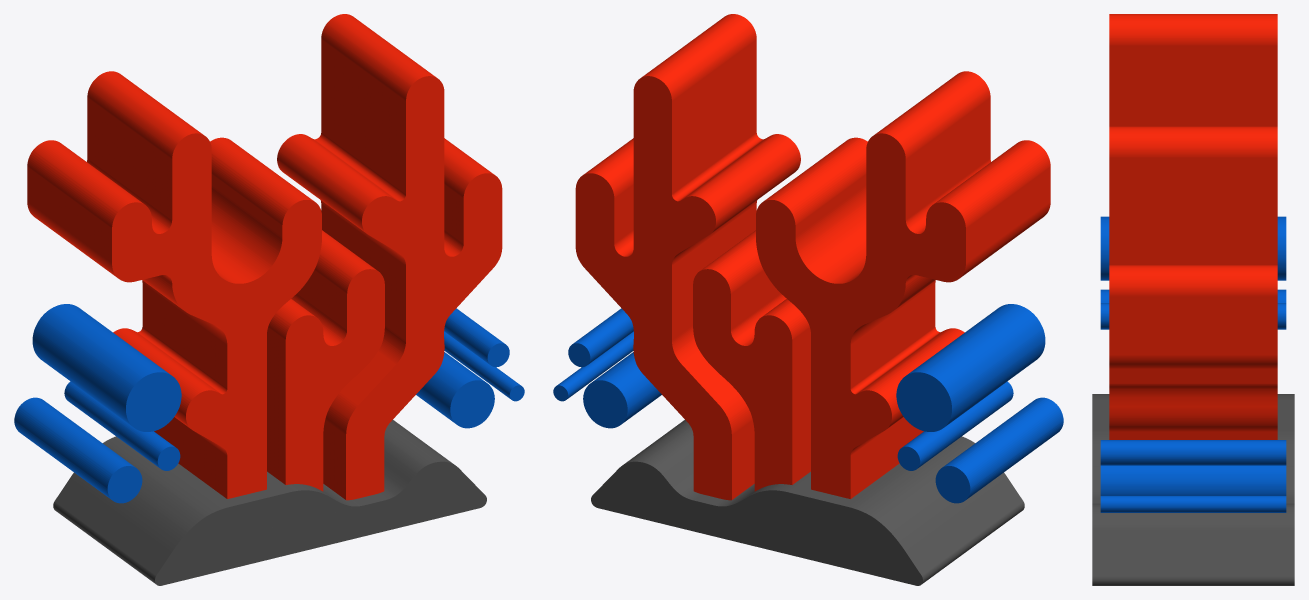
Rendered from U+1FAB8.obj.
The picture shows the model from 3 angles, left to right: view 1: azimuth 30°, elevation 25°; view 2: azimuth 150°, elevation 25°; view 3: azimuth 270°, elevation 25°; orthographic projection.
Visible parts, largest first — view 1: U+1FAB8_layer00_obj00, U+1FAB8_layer02_obj00, U+1FAB8_layer01_obj00; view 2: U+1FAB8_layer00_obj00, U+1FAB8_layer02_obj00, U+1FAB8_layer01_obj00; view 3: U+1FAB8_layer00_obj00, U+1FAB8_layer02_obj00, U+1FAB8_layer01_obj00.
Boxes of the visible parts, x1,y1,x2,y2 form: U+1FAB8_layer00_obj00: (27,14,502,500); U+1FAB8_layer02_obj00: (53,420,486,585); U+1FAB8_layer01_obj00: (14,304,524,503); U+1FAB8_layer00_obj00: (575,14,1050,500); U+1FAB8_layer02_obj00: (591,420,1024,585); U+1FAB8_layer01_obj00: (553,304,1063,503); U+1FAB8_layer00_obj00: (1109,14,1277,439); U+1FAB8_layer02_obj00: (1092,394,1294,585); U+1FAB8_layer01_obj00: (1100,216,1286,512).
Bounding box in the file's own units: 0.5678 × 0.568 × 0.24.
